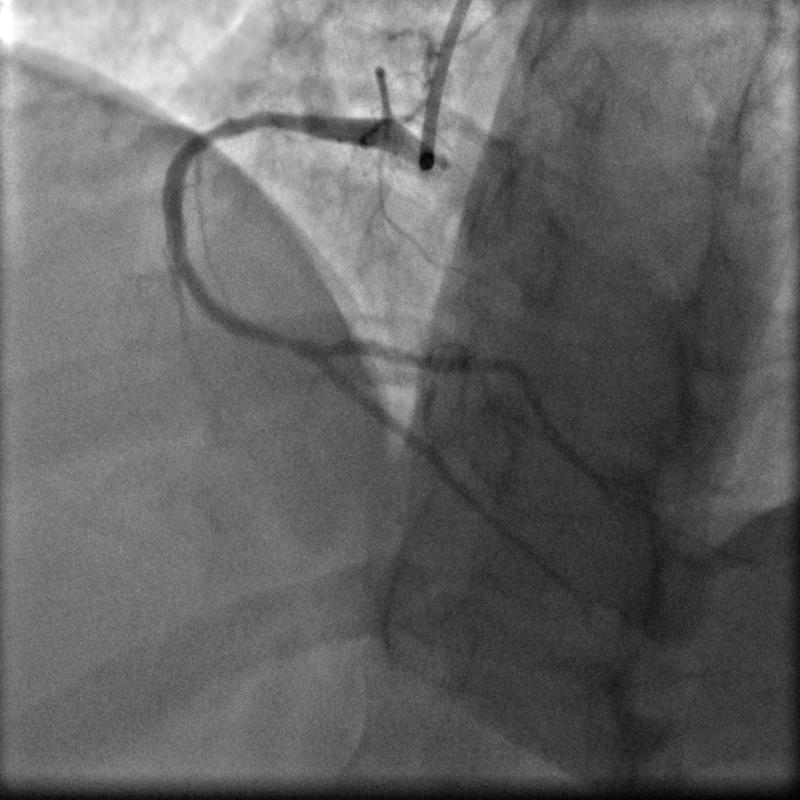Stenosis: (272, 325, 309, 360)
